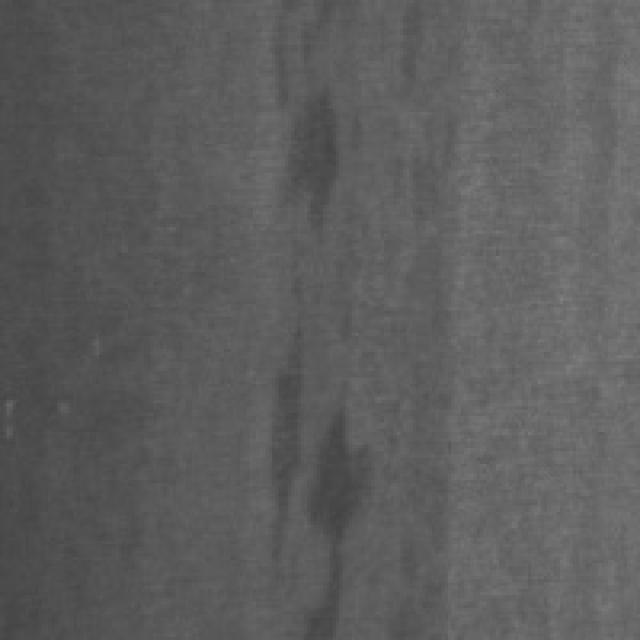inclusion: (259, 243, 368, 634), (250, 0, 342, 285)
